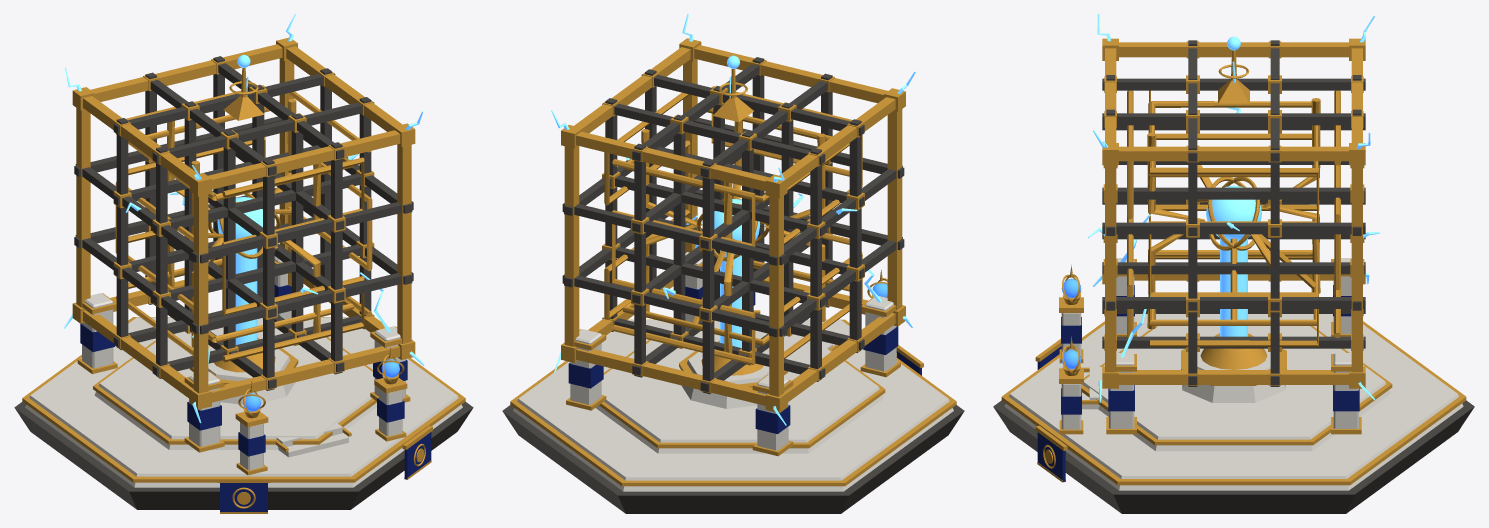
File: zeus_ion_storm_lattice.glb
The picture shows the model from 3 angles, left to right: view 1: azimuth 30°, elevation 25°; view 2: azimuth 150°, elevation 25°; view 3: azimuth 270°, elevation 25°; orthographic projection. The views are drawn at different scales.
Visible parts, largest first — view 1: zeus_ion_storm_lattice; view 2: zeus_ion_storm_lattice; view 3: zeus_ion_storm_lattice.
Boxes of the visible parts, <box> form: zeus_ion_storm_lattice: <box>14,14,473,513</box>; zeus_ion_storm_lattice: <box>502,14,964,513</box>; zeus_ion_storm_lattice: <box>993,14,1474,513</box>.
Bounding box in the file's own units: 1.49 × 1.55 × 1.72.
Materials: 1 (1 with a texture image).
